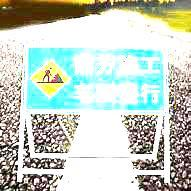sign: (24, 45, 167, 111)
